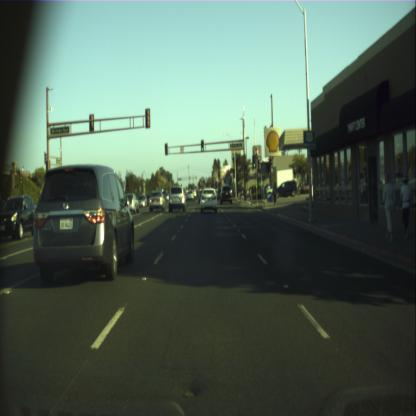Green: (200, 138, 204, 152), (252, 155, 256, 167), (244, 164, 247, 174)
off: (165, 143, 168, 154)
